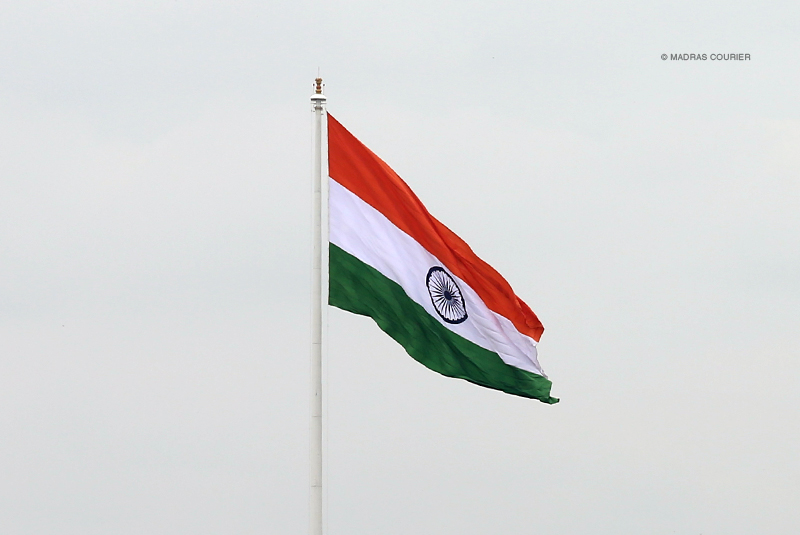flag: (298, 100, 581, 404)
